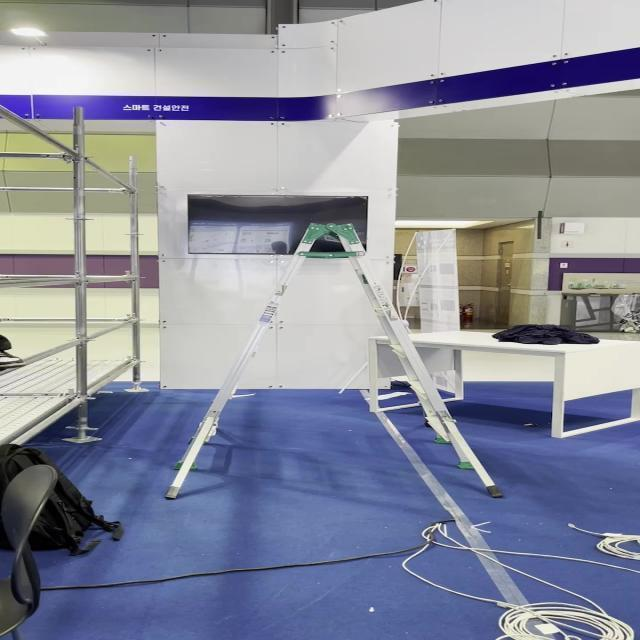boots: (164, 216, 506, 502)
